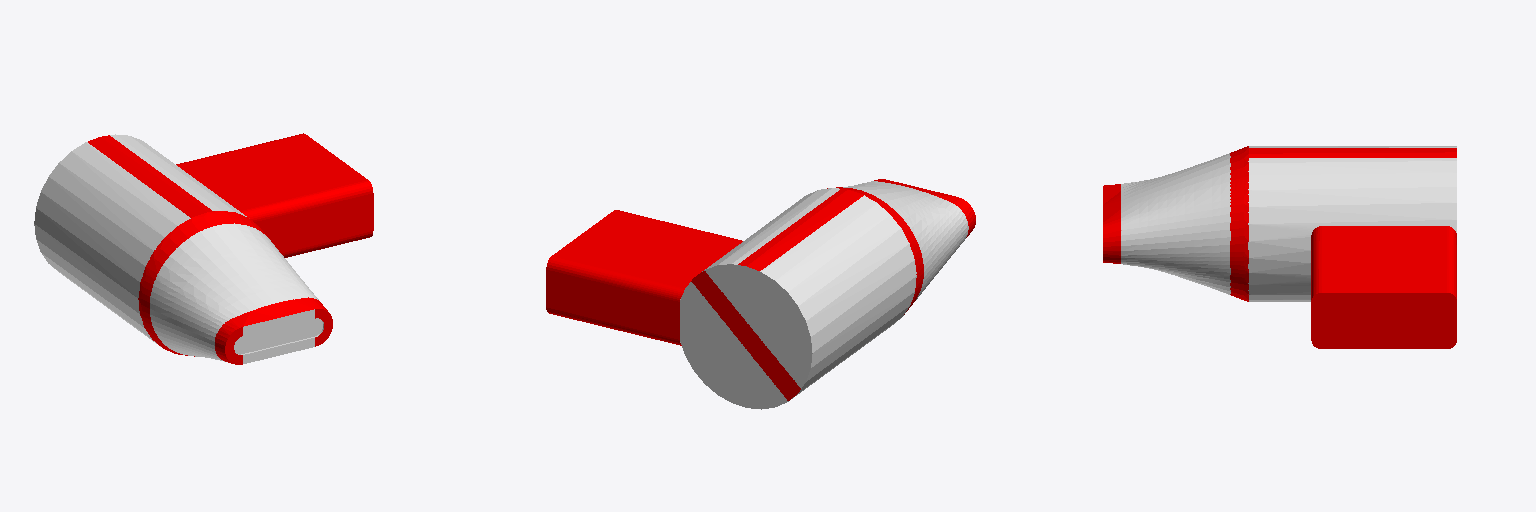
3 renders of one model, left to right at view 1: azimuth 30°, elevation 25°; view 2: azimuth 150°, elevation 25°; view 3: azimuth 270°, elevation 25°, orthographic.
Parts seen in each view (by area): view 1: white_hair_dryer; view 2: white_hair_dryer; view 3: white_hair_dryer.
Part boxes in pixels (left/top/right/bottom): white_hair_dryer: left=34, top=133, right=373, bottom=364; white_hair_dryer: left=546, top=179, right=975, bottom=409; white_hair_dryer: left=1103, top=146, right=1456, bottom=348.
Size of the model in its own units: 148 by 74.99 by 170.
1 materials, 1 textured.